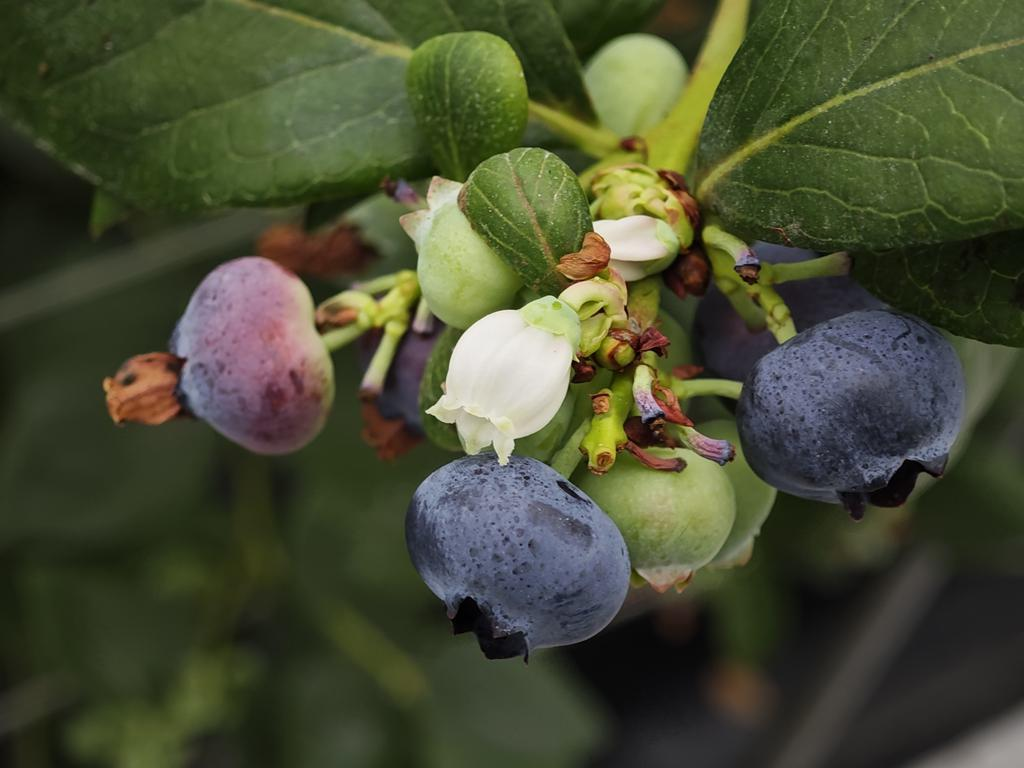RipeBlueBerry: (399, 450, 633, 668), (735, 303, 970, 516)
Semi-RipeBlueBerry: (162, 252, 339, 462)
